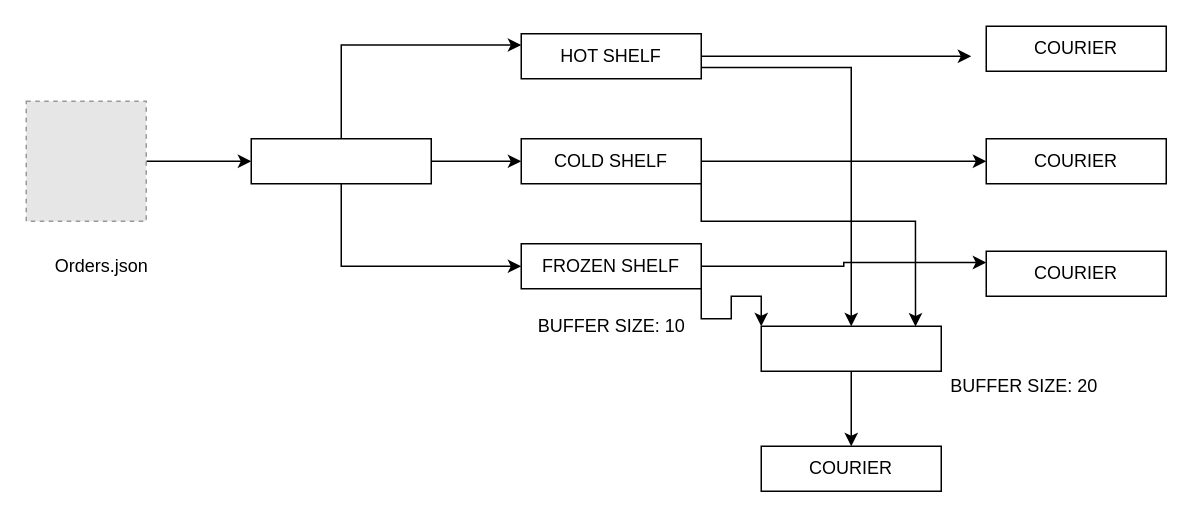
The diagram is 1193 pixels wide and 518 high, and some of its shapes have lost their labels. Grey dashed boxes stand in for pictures. Here are the shapes that lost their labels. From the top down, the box of each, then its label:
(250, 137, 431, 184): KITCHEN
(760, 325, 941, 371): GENERIC SHELF
